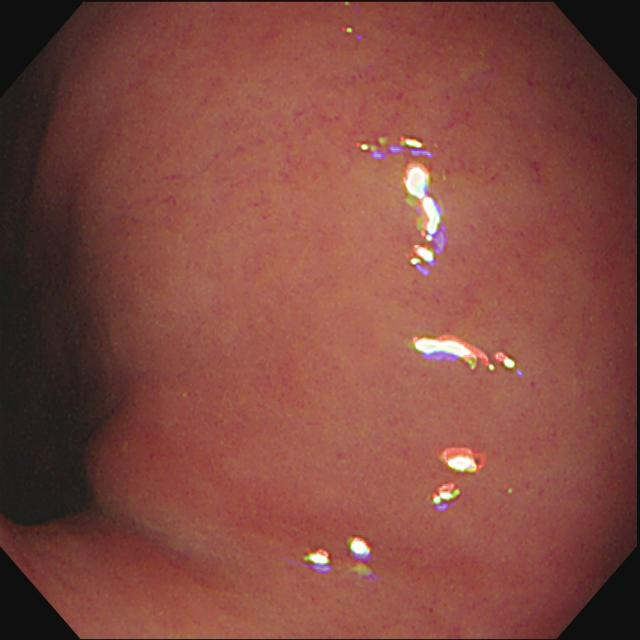E: (2, 311, 112, 523)
U: (402, 161, 448, 278), (409, 333, 519, 375), (431, 446, 488, 511), (301, 535, 379, 579), (355, 135, 433, 159)
